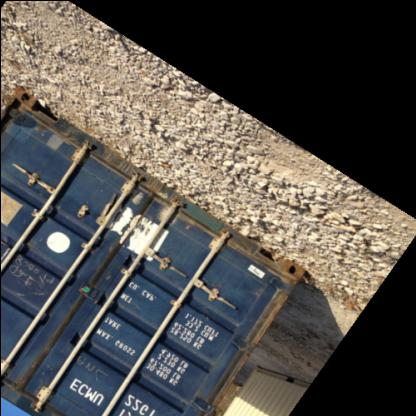Damage: (95, 196, 170, 262), (239, 282, 287, 352), (1, 255, 59, 302), (200, 354, 244, 414), (6, 101, 54, 141), (69, 352, 113, 390)
